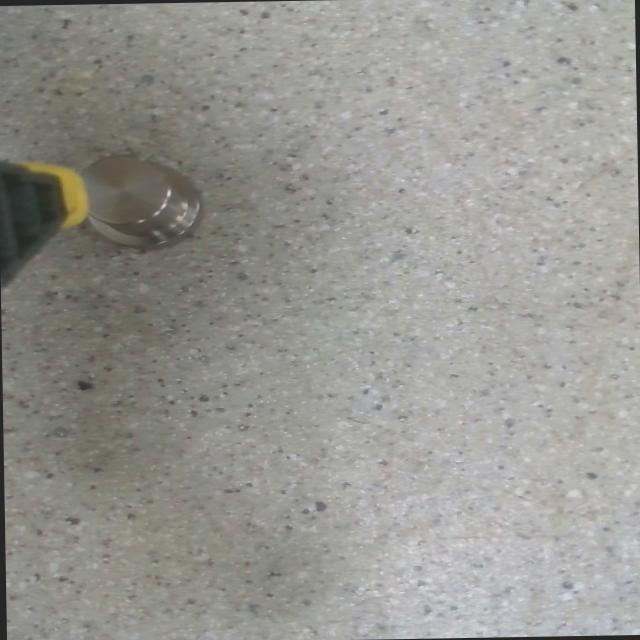sensor: (76, 150, 206, 254)
